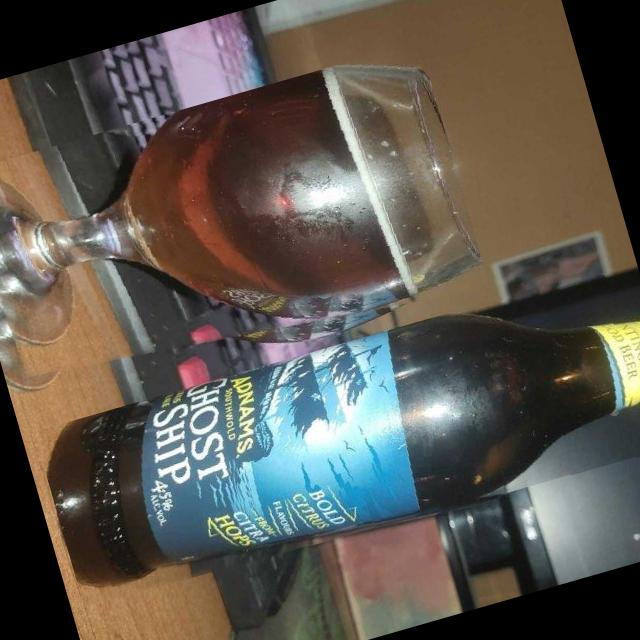Glass: (33, 259, 640, 615), (0, 41, 489, 424)
